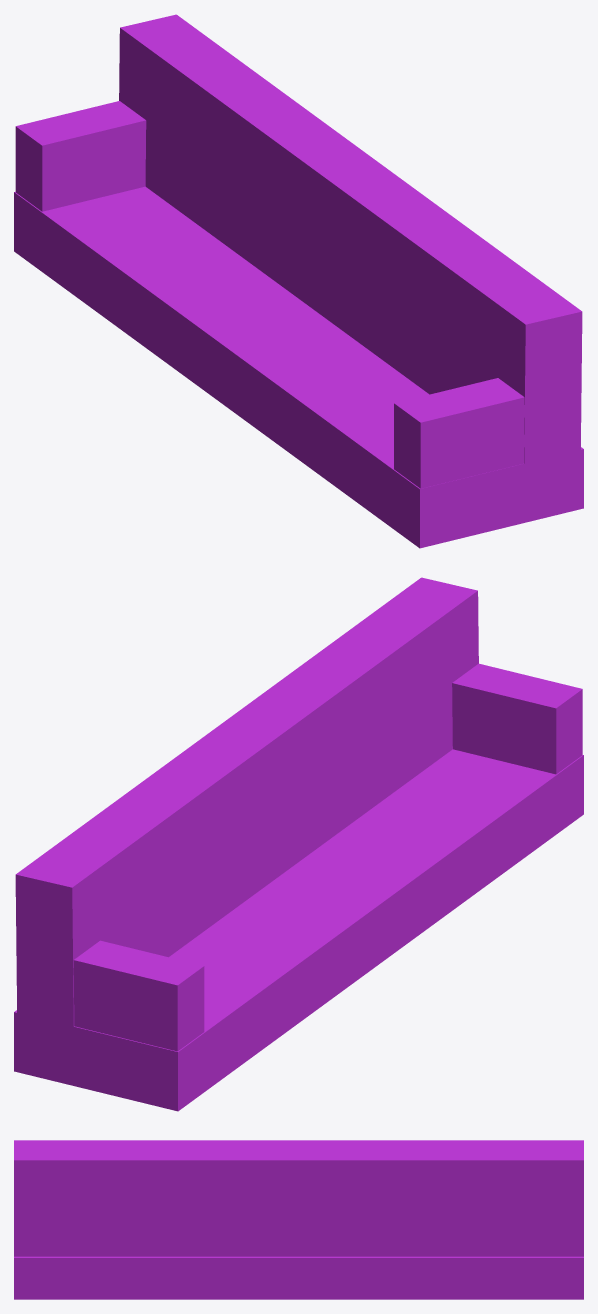
File: sofa.glb
3 views of the same model, one above another, from view 1: azimuth 30°, elevation 25°; view 2: azimuth 150°, elevation 25°; view 3: azimuth 270°, elevation 25° (orthographic). The views are drawn at different scales.
Parts seen in each view (by area): view 1: Cube.003; view 2: Cube.003; view 3: Cube.003.
Boxes of the visible parts, x1,y1,x2,y2 form: Cube.003: [14, 14, 583, 548]; Cube.003: [14, 577, 583, 1111]; Cube.003: [14, 1140, 583, 1299].
Bounding box in the file's own units: 1.61 × 1.85 × 6.88.
